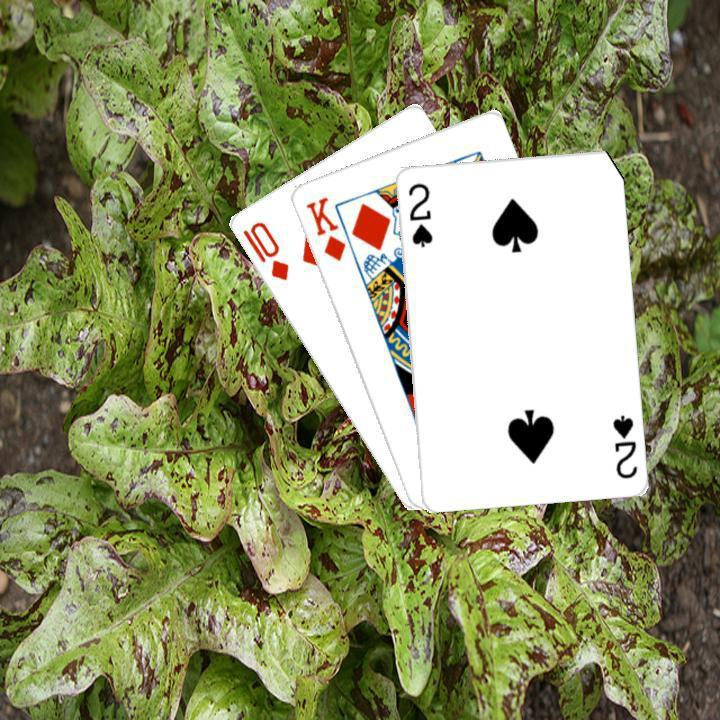10: (238, 217, 291, 283)
2: (608, 409, 639, 481), (403, 178, 434, 249)
K: (301, 192, 348, 264)
